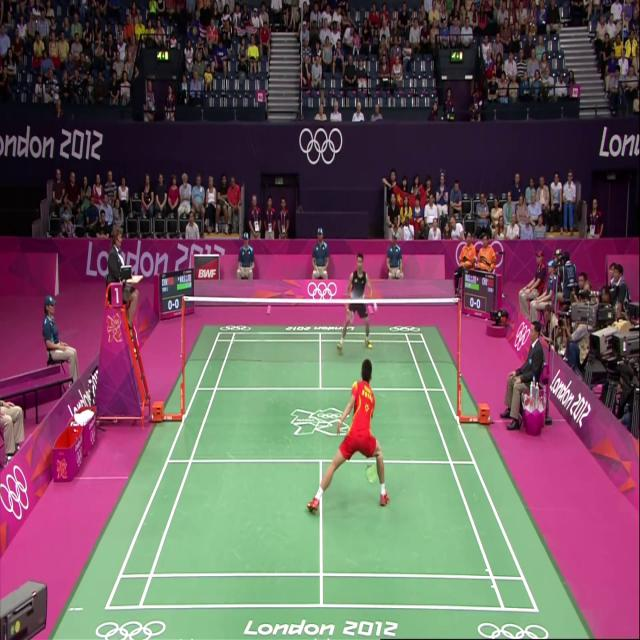Net: (180, 294, 461, 369)
Player1: (304, 329, 394, 522)
Player2: (346, 242, 381, 346)
Shuttlecock: (370, 300, 382, 318)
